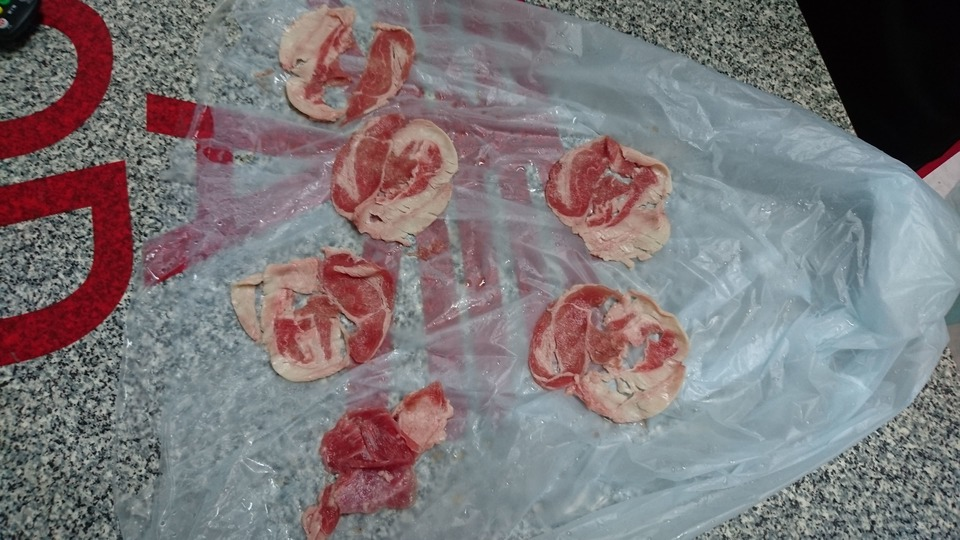restructured meat: (283, 380, 456, 540), (228, 248, 405, 382), (530, 275, 685, 428), (542, 131, 676, 269), (323, 106, 456, 240), (276, 6, 429, 115)
